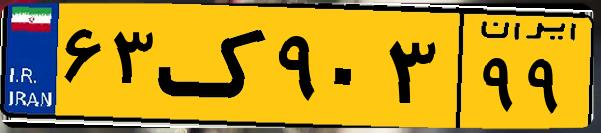0: (330, 28, 385, 110)
3: (385, 28, 445, 110), (110, 28, 158, 98)
6: (57, 26, 110, 100)
9: (270, 28, 330, 110), (475, 38, 525, 113), (525, 38, 570, 115)
ک: (158, 12, 270, 120)
